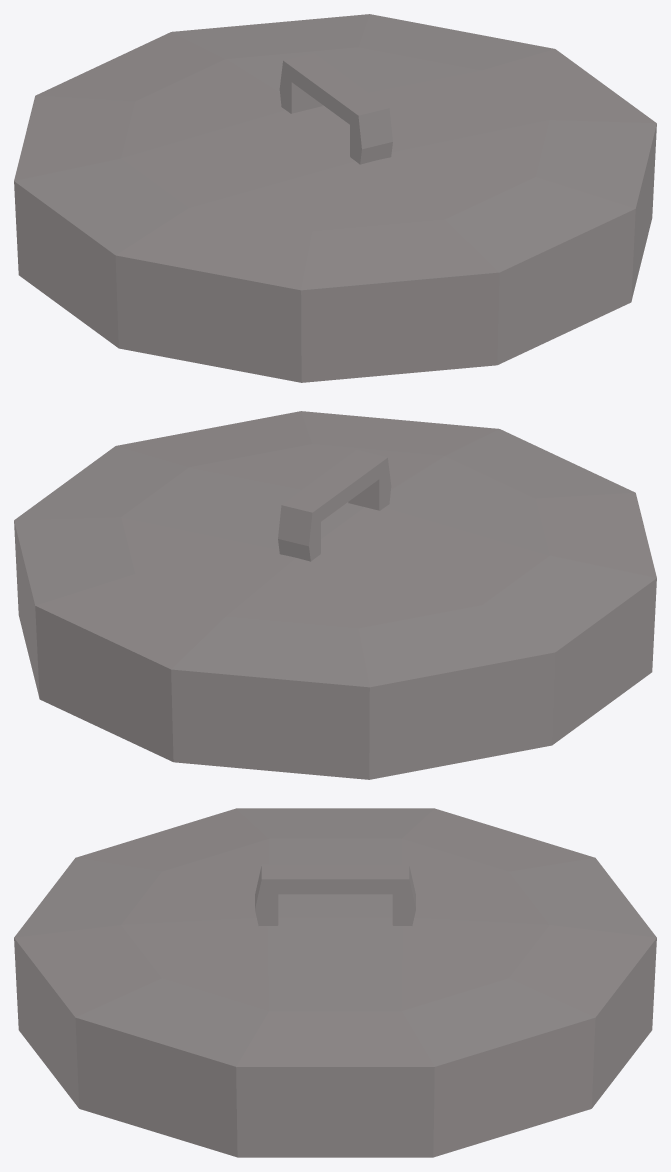
File: trash-can-lid.glb
3 views of the same model, one above another, from view 1: azimuth 30°, elevation 25°; view 2: azimuth 150°, elevation 25°; view 3: azimuth 270°, elevation 25° (orthographic). The views are drawn at different scales.
Parts seen in each view (by area): view 1: trash-can-lid; view 2: trash-can-lid; view 3: trash-can-lid.
Part boxes in pixels (x1,y1,x2,y2): trash-can-lid: (14, 14, 656, 382); trash-can-lid: (14, 411, 656, 779); trash-can-lid: (14, 808, 656, 1157).
Size of the model in its own units: 0.5233 by 0.1579 by 0.5502.
Materials: 1 (1 with a texture image).
